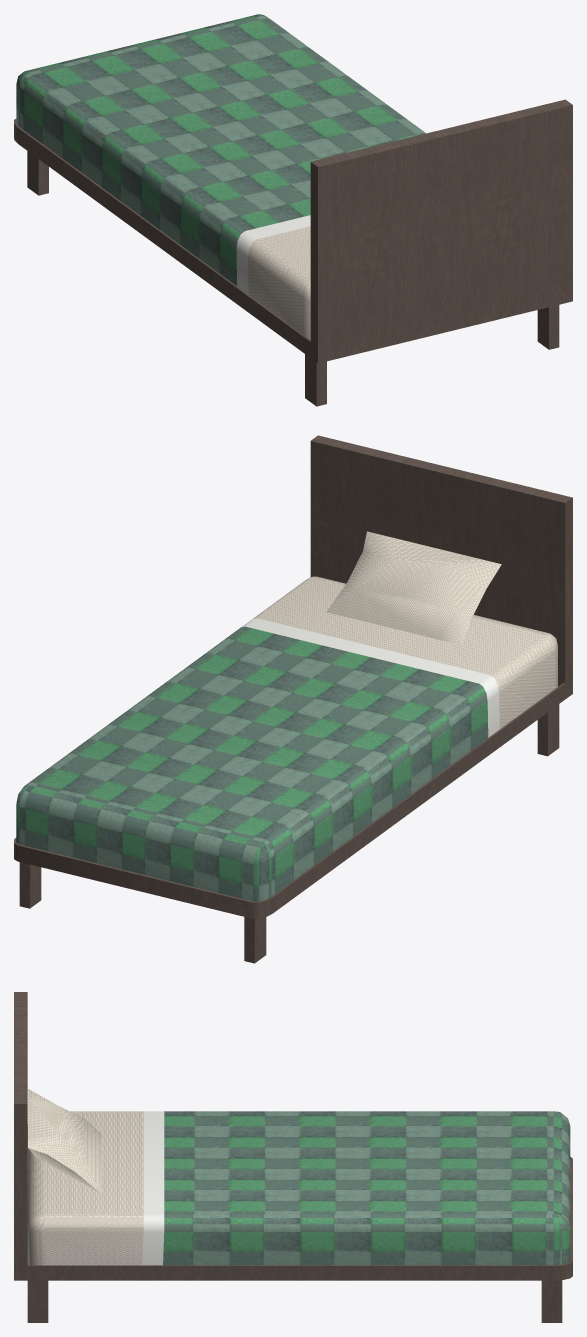
File: bed.glb
3 renders of one model, top to bottom at view 1: azimuth 30°, elevation 25°; view 2: azimuth 150°, elevation 25°; view 3: azimuth 270°, elevation 25°, orthographic. The views are drawn at different scales.
Visible parts, largest first — view 1: furniture and household assets.002; view 2: furniture and household assets.002; view 3: furniture and household assets.002.
Boxes of the visible parts, x1,y1,x2,y2 form: furniture and household assets.002: [14, 14, 572, 406]; furniture and household assets.002: [14, 435, 572, 963]; furniture and household assets.002: [14, 992, 572, 1322].
Size of the model in its own units: 97.63 by 90.16 by 206.
4 materials, 3 textured.
